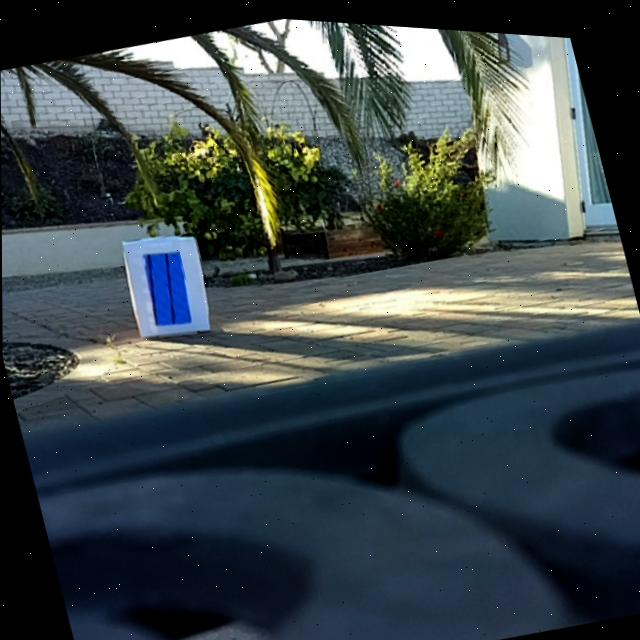led: (140, 242, 194, 329)
